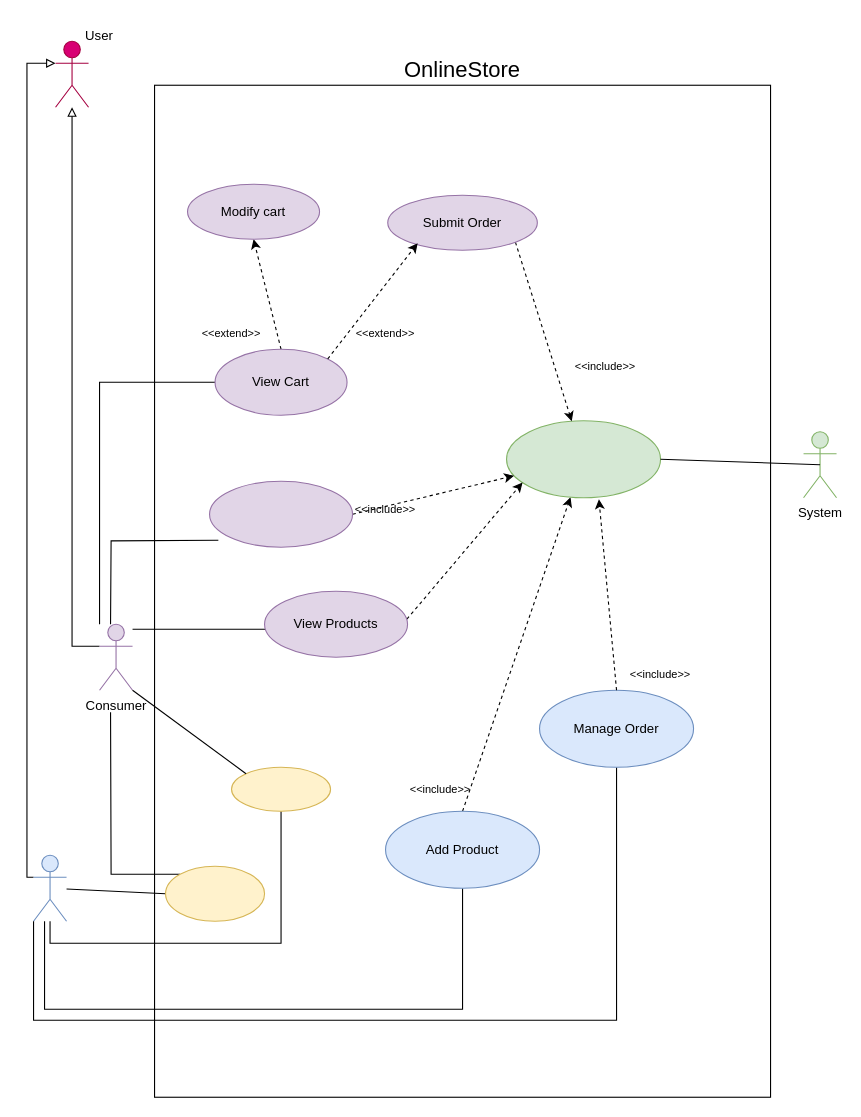
Image size: 861x1117. Some labels were removed from this diagram. The shapes that lost their labels are listed below. From the top down, each one's centre as x and y in pixels, then its label:
the point at 583,459: Database
the point at 280,513: Add Product to Cart
the point at 280,788: Log-out
the point at 49,887: Admin
the point at 214,893: Log-in
